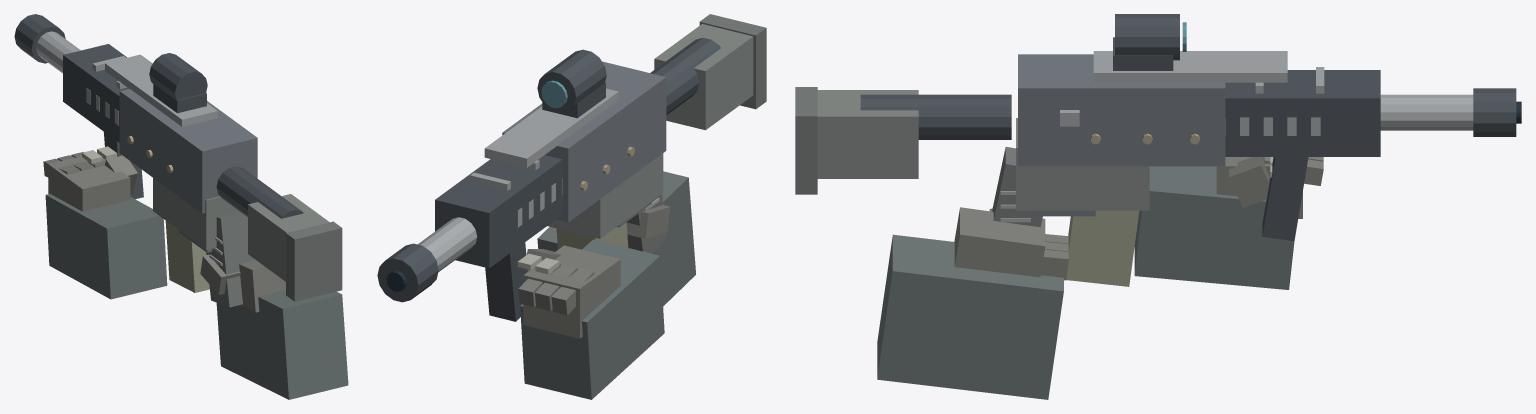
3 views of the same model, side by side, from view 1: azimuth 30°, elevation 25°; view 2: azimuth 150°, elevation 25°; view 3: azimuth 270°, elevation 25° (orthographic). The views are drawn at different scales.
Parts seen in each view (by area): view 1: sleeve_right_050, sleeve_left_048, upper_receiver_000, stock_butt_008, foreend_002, palm_left_049, adjustable_stock_007, lower_receiver_001, grip_039, flat_top_rail_010, buffer_tube_006, stanag_mag_009 (+8 smaller); view 2: sleeve_left_048, upper_receiver_000, foreend_002, adjustable_stock_007, palm_left_049, sleeve_right_050, flat_top_rail_010, lower_receiver_001, red_dot_optic_012, buffer_tube_006, muzzle_device_004, angled_foregrip_014 (+12 smaller); view 3: sleeve_right_050, upper_receiver_000, sleeve_left_048, foreend_002, adjustable_stock_007, lower_receiver_001, buffer_tube_006, flat_top_rail_010, palm_right_051, stanag_mag_009, barrel_shroud_003, angled_foregrip_014 (+8 smaller).
Boxes of the visible parts, x1,y1,x2,y2 form: sleeve_right_050: [216, 290, 348, 399]; sleeve_left_048: [45, 194, 167, 299]; upper_receiver_000: [119, 88, 257, 213]; stock_butt_008: [286, 221, 342, 301]; foreend_002: [63, 44, 128, 142]; palm_left_049: [48, 156, 130, 211]; adjustable_stock_007: [248, 194, 329, 281]; lower_receiver_001: [153, 178, 239, 249]; grip_039: [206, 211, 253, 307]; flat_top_rail_010: [105, 54, 217, 126]; buffer_tube_006: [216, 166, 303, 218]; stanag_mag_009: [165, 221, 209, 292]; sleeve_left_048: [520, 239, 664, 399]; upper_receiver_000: [502, 61, 666, 222]; foreend_002: [435, 155, 562, 268]; adjustable_stock_007: [654, 24, 753, 130]; palm_left_049: [523, 245, 620, 338]; sleeve_right_050: [537, 171, 695, 306]; flat_top_rail_010: [484, 88, 618, 167]; lower_receiver_001: [547, 153, 663, 238]; red_dot_optic_012: [537, 49, 606, 113]; buffer_tube_006: [650, 37, 720, 115]; muzzle_device_004: [377, 243, 438, 302]; angled_foregrip_014: [485, 242, 527, 321]; sleeve_right_050: [877, 234, 1063, 399]; upper_receiver_000: [1018, 54, 1225, 166]; sleeve_left_048: [1134, 166, 1294, 289]; foreend_002: [1225, 70, 1380, 156]; adjustable_stock_007: [817, 90, 918, 178]; lower_receiver_001: [1016, 118, 1149, 210]; buffer_tube_006: [860, 94, 1011, 139]; flat_top_rail_010: [1093, 51, 1287, 82]; palm_right_051: [954, 207, 1045, 277]; stanag_mag_009: [1066, 210, 1139, 286]; barrel_shroud_003: [1380, 94, 1473, 130]; angled_foregrip_014: [1262, 157, 1308, 241].
Size of the model in its own units: 0.455 by 0.8834 by 1.68.
